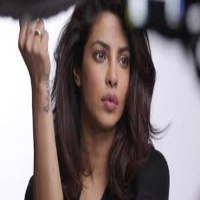ring: (34, 16, 47, 50)
